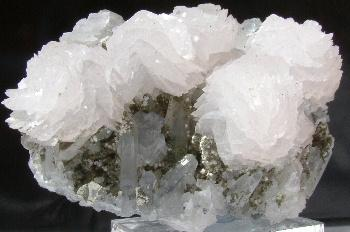calcite: (3, 4, 343, 222), (118, 113, 227, 232)
